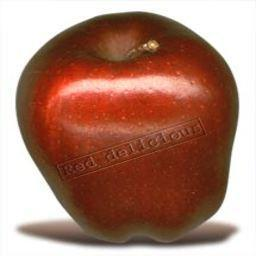apple: (16, 11, 239, 243)
